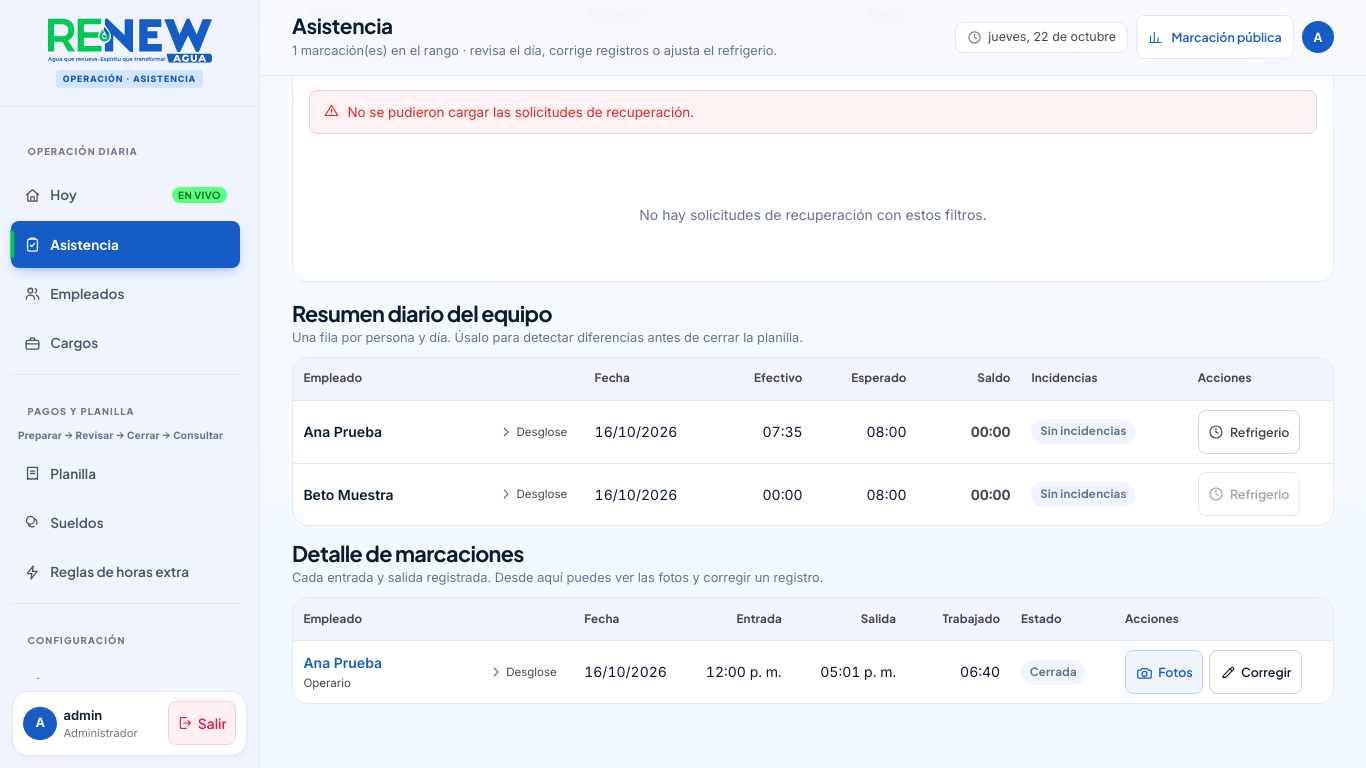
Test: Admin — tablas de asistencia › ADMIN conserva SVG, etiquetas visibles y los diálogos existentes
The width and height of the screenshot is (1366, 768).
(page scrolled)
Click the button with aria-label "ver fotos de ana prueba" at [1164, 672], box top-left (1125, 650), bottom-right (1203, 694)
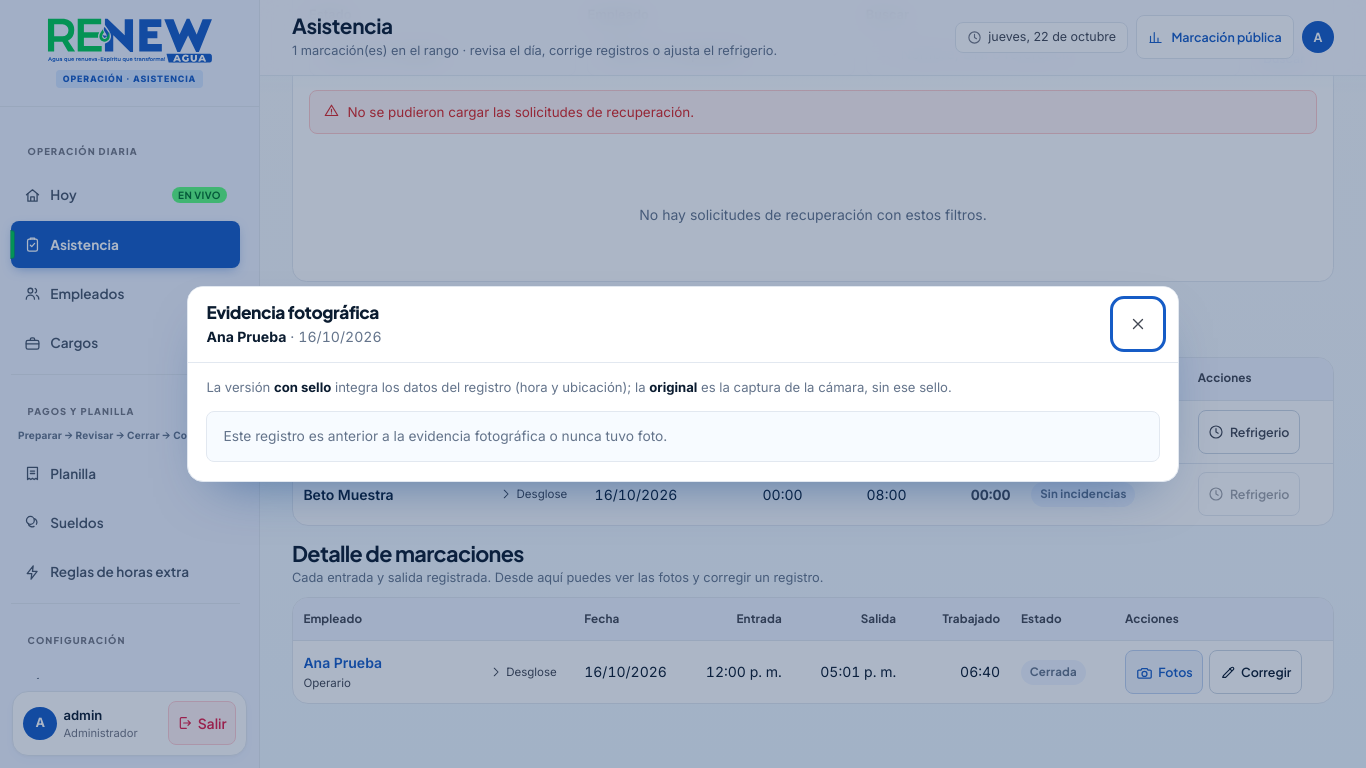
Expected: the heading "Evidencia fotográfica" is shown, top-left (206, 302), bottom-right (382, 324)
Note: Se conserva el mismo callback y el identificador del registro.
Click the button named "cerrar evidencia" at [1138, 324], box top-left (1116, 302), bottom-right (1160, 346)
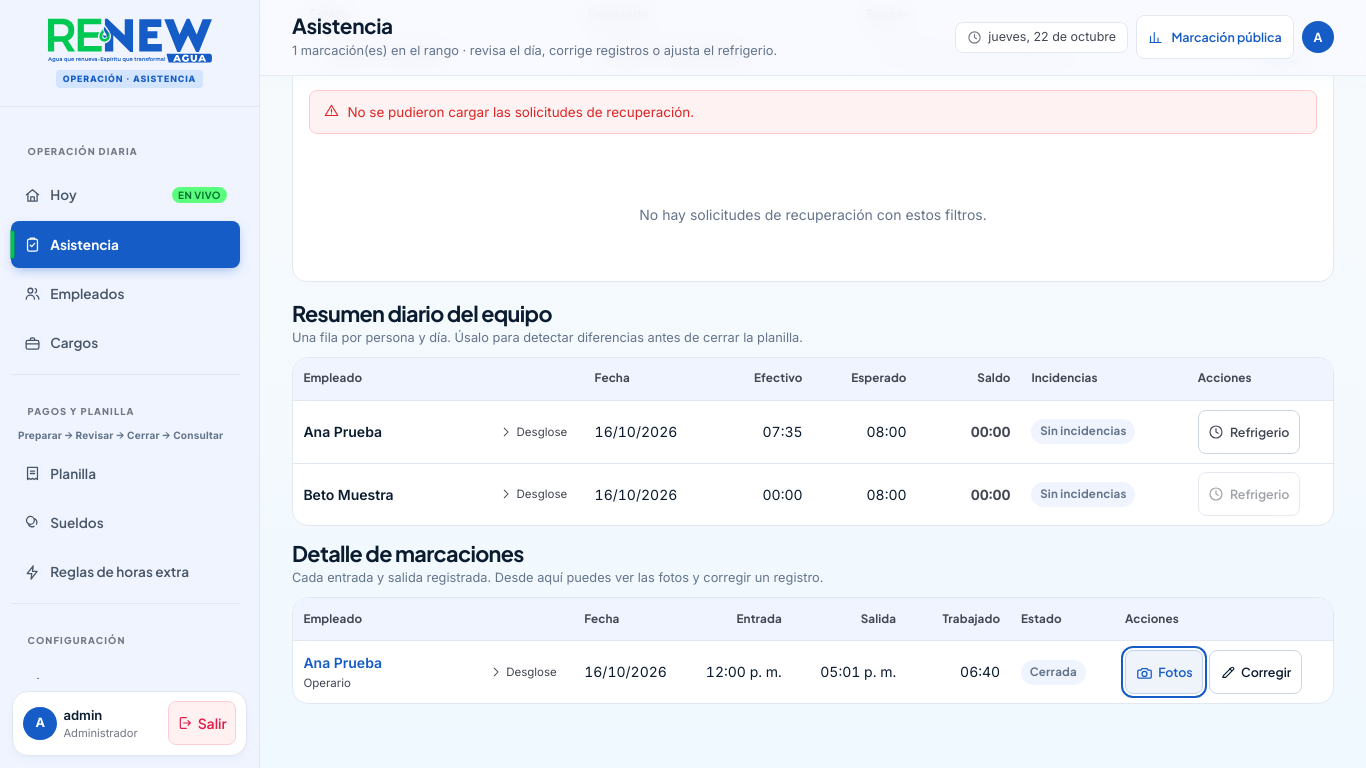
Expected: the dialog is gone
Click the button with aria-label "corregir registro de ana prueba" at [1255, 672], box top-left (1209, 650), bottom-right (1302, 694)
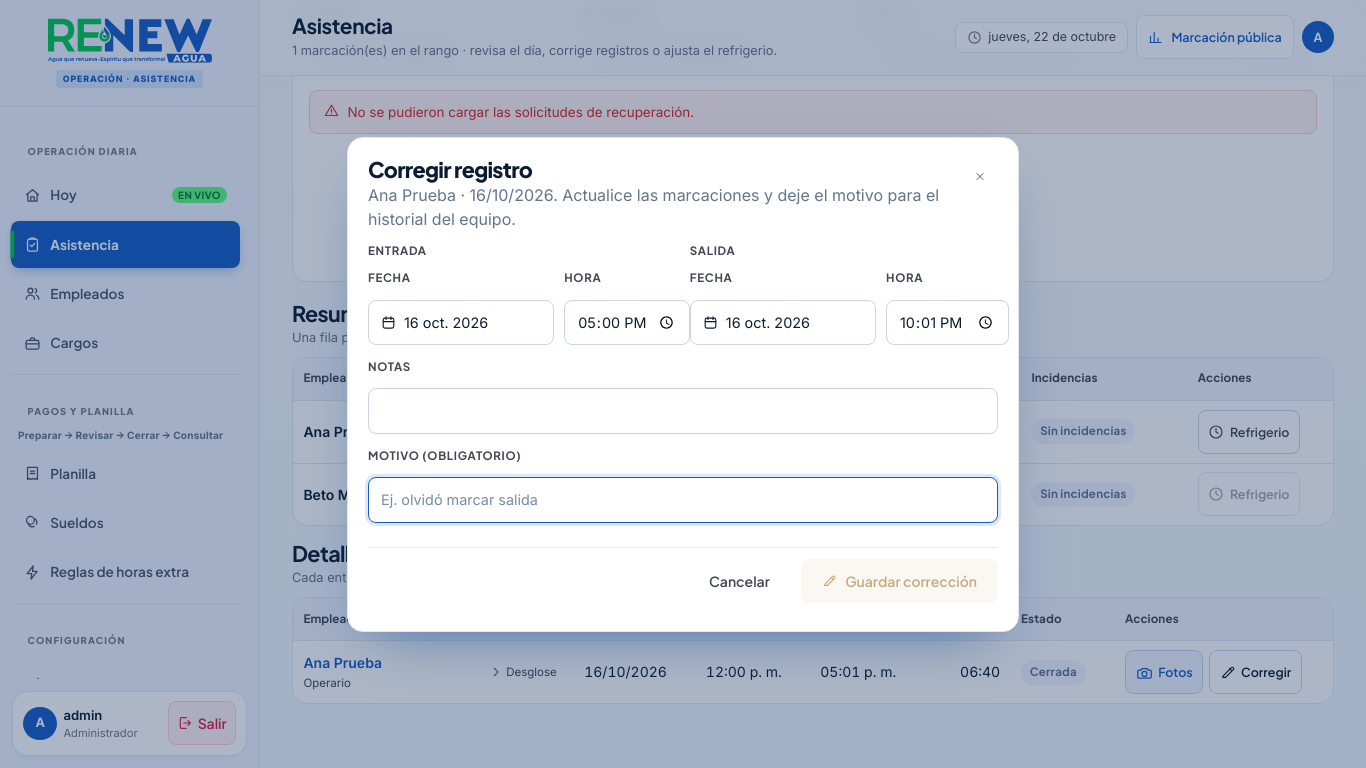
Expected: the heading "Corregir registro" is shown, top-left (368, 156), bottom-right (532, 183)
Click the button named "cerrar corrección" at [980, 176], box top-left (962, 158), bottom-right (998, 194)
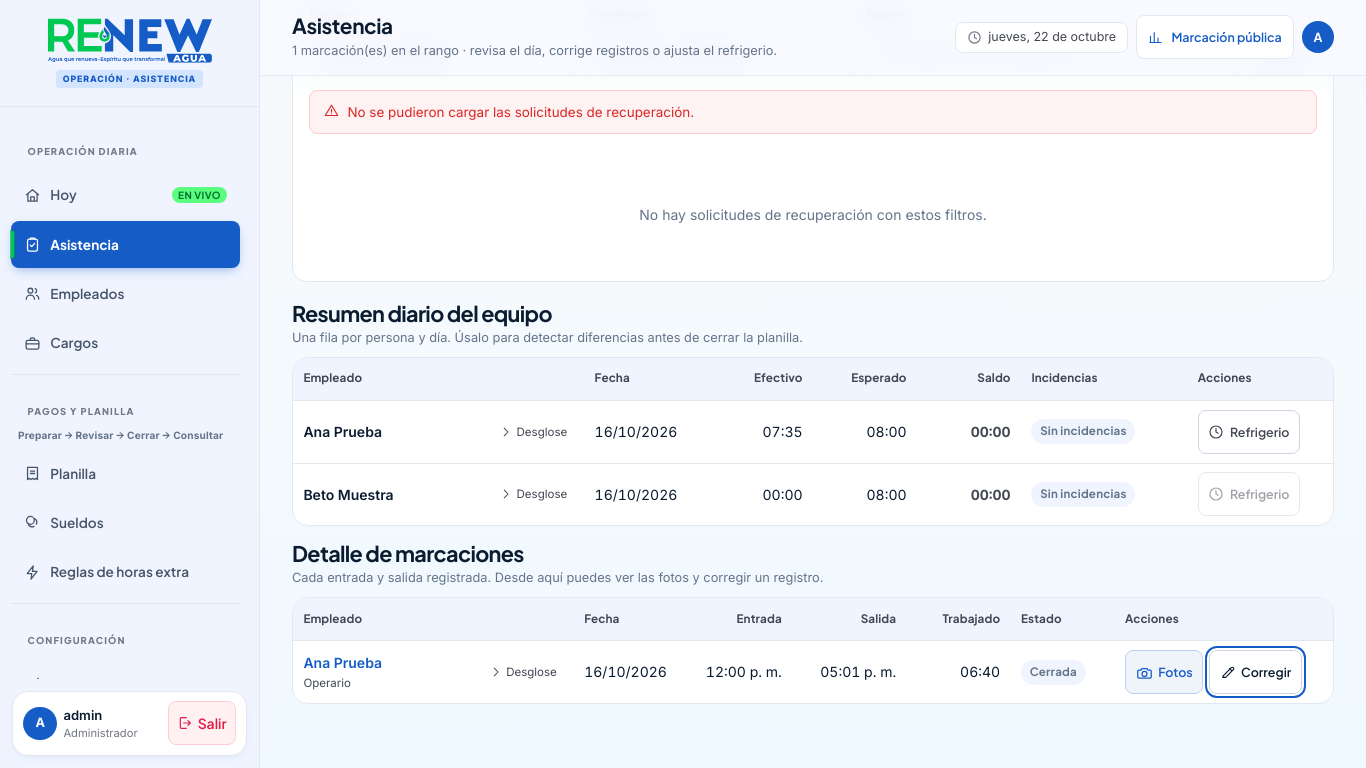
Expected: the dialog is gone
Click the button "Refrigerio" in the row of "07:35" at [1249, 432], box top-left (1198, 410), bottom-right (1300, 454)
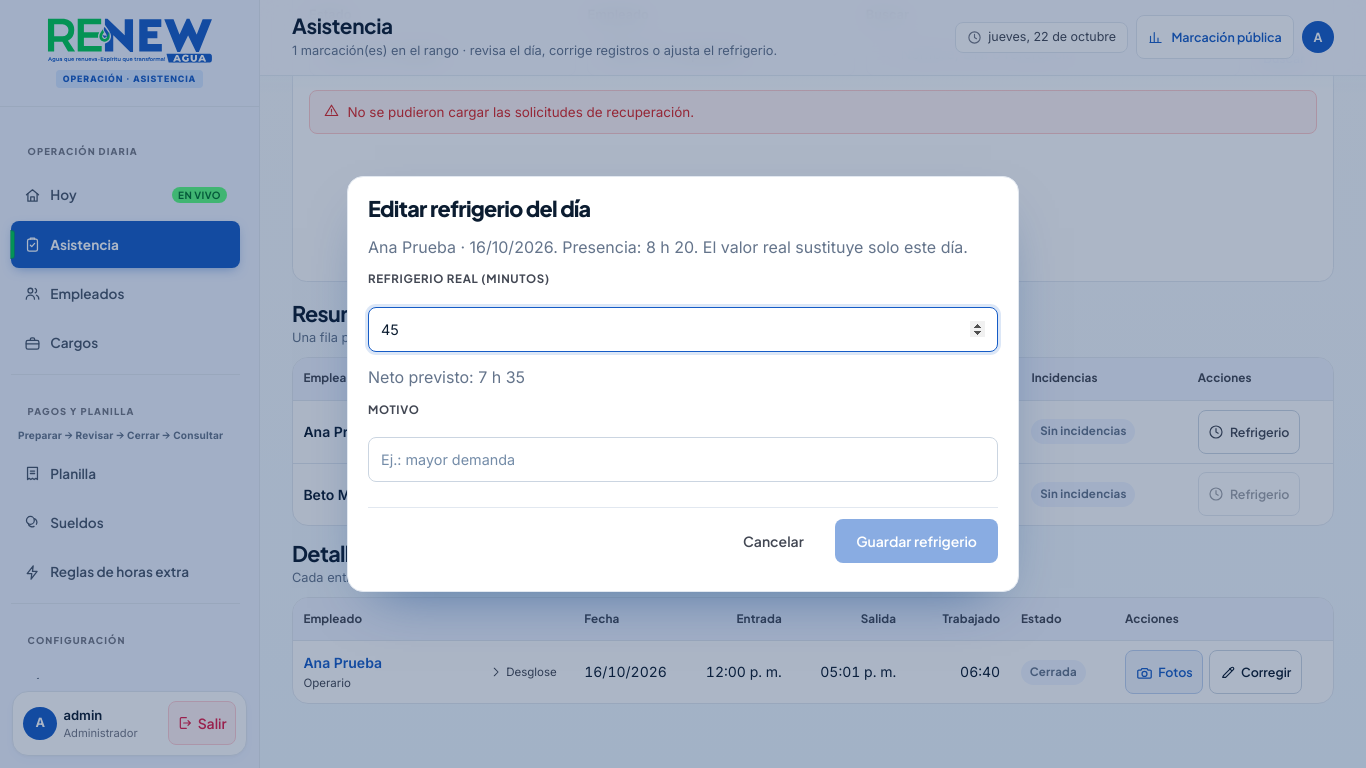
Expected: the heading "Editar refrigerio del día" is shown, top-left (368, 195), bottom-right (590, 222)
Click the button "Cancelar" at [773, 541], box top-left (722, 519), bottom-right (825, 563)
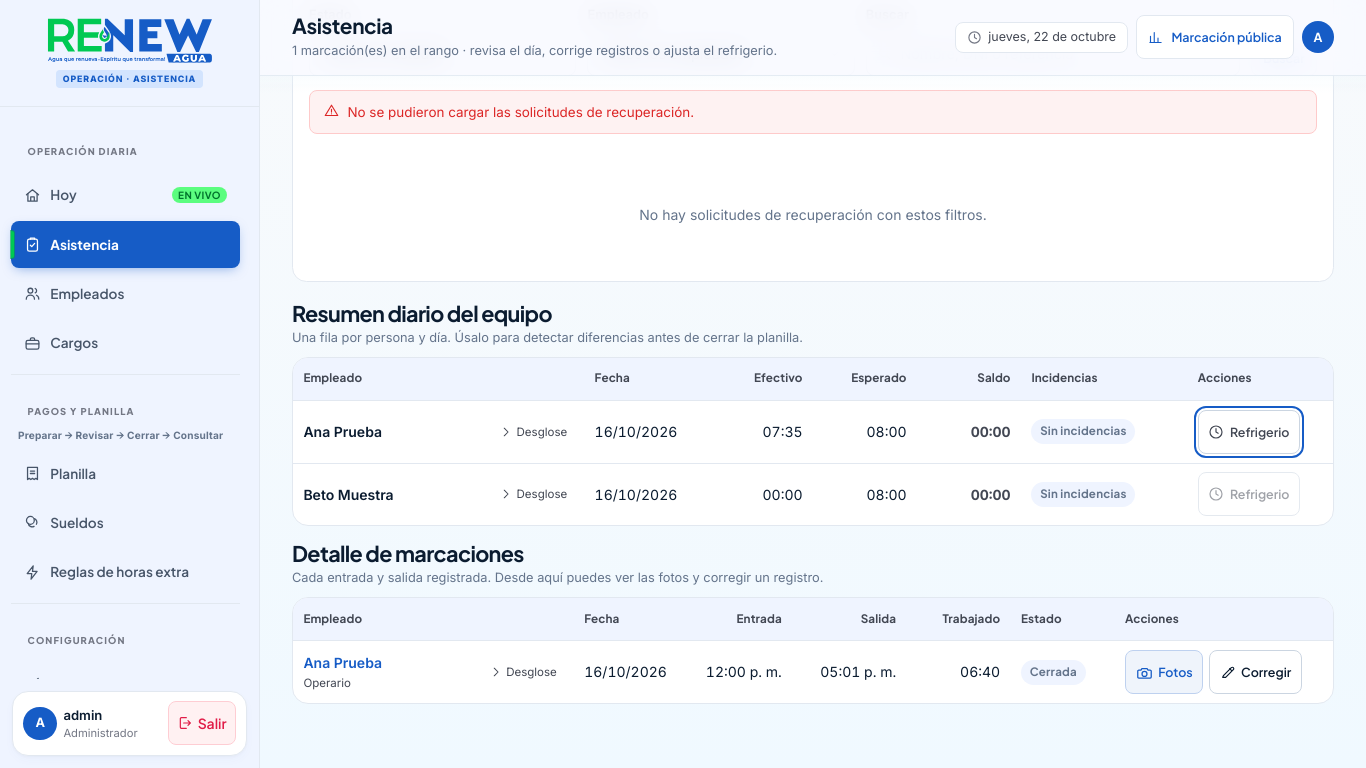
Expected: the button "Refrigerio" in the row of "Beto Muestra" is disabled, top-left (1198, 472), bottom-right (1300, 516)
Expected: the dialog is gone
